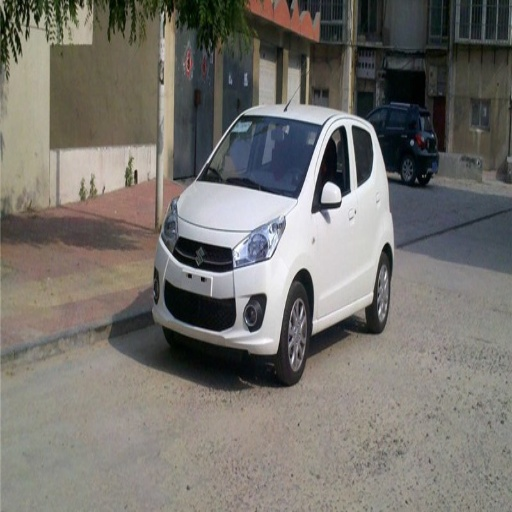front_bumper: (157, 219, 292, 355)
front_glass: (198, 116, 322, 196)
front_left_door: (318, 120, 355, 316)
